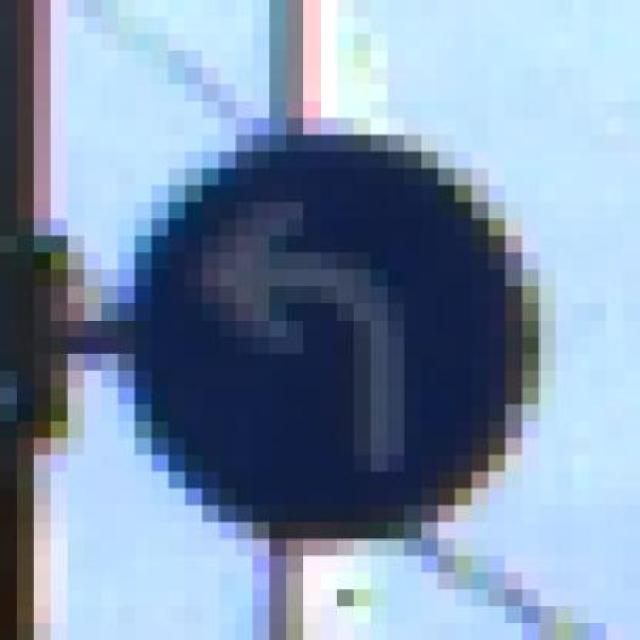Turn left ahead: (118, 101, 556, 573)
